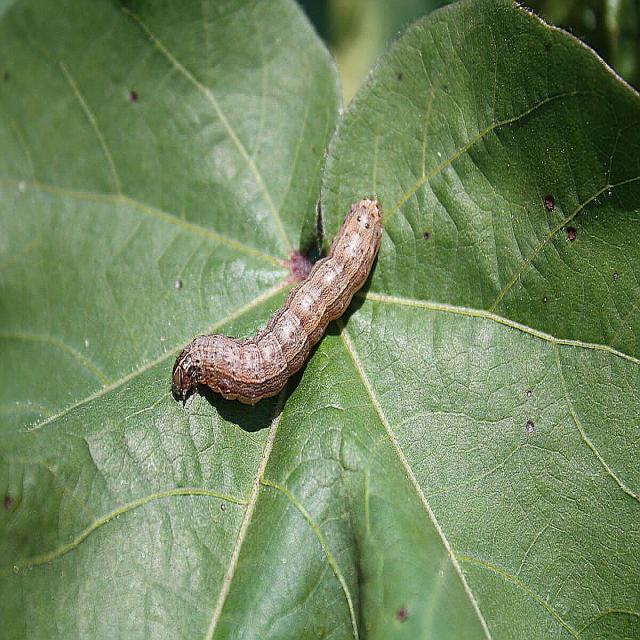Armyworm: (138, 196, 462, 450)
